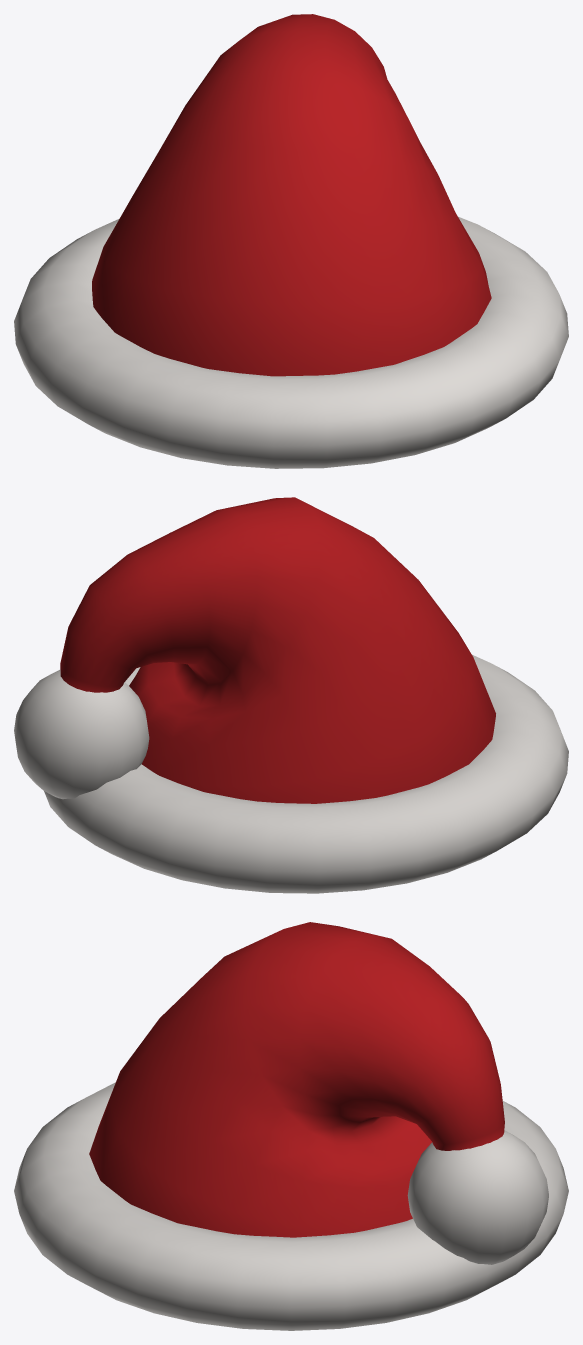
The model's file is Santa_Hat.glb.
3 views of the same model, one above another, from view 1: azimuth 30°, elevation 25°; view 2: azimuth 150°, elevation 25°; view 3: azimuth 270°, elevation 25° (orthographic). The views are drawn at different scales.
Visible parts, largest first — view 1: Santa_Hat_New; view 2: Santa_Hat_New; view 3: Santa_Hat_New.
Boxes of the visible parts, box(x1,y1,x2,y2) form: Santa_Hat_New: box(14, 14, 568, 468); Santa_Hat_New: box(14, 497, 568, 893); Santa_Hat_New: box(14, 922, 568, 1330).
Bounding box in the file's own units: 0.408 × 0.2487 × 0.408.
